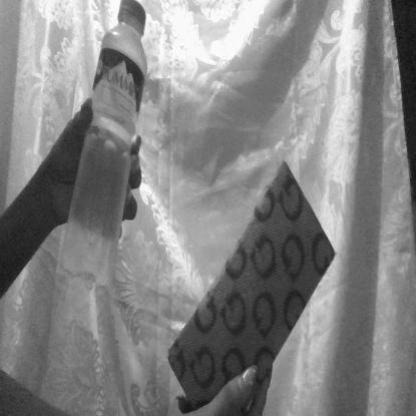Plastic Bottle: (55, 4, 147, 292)
